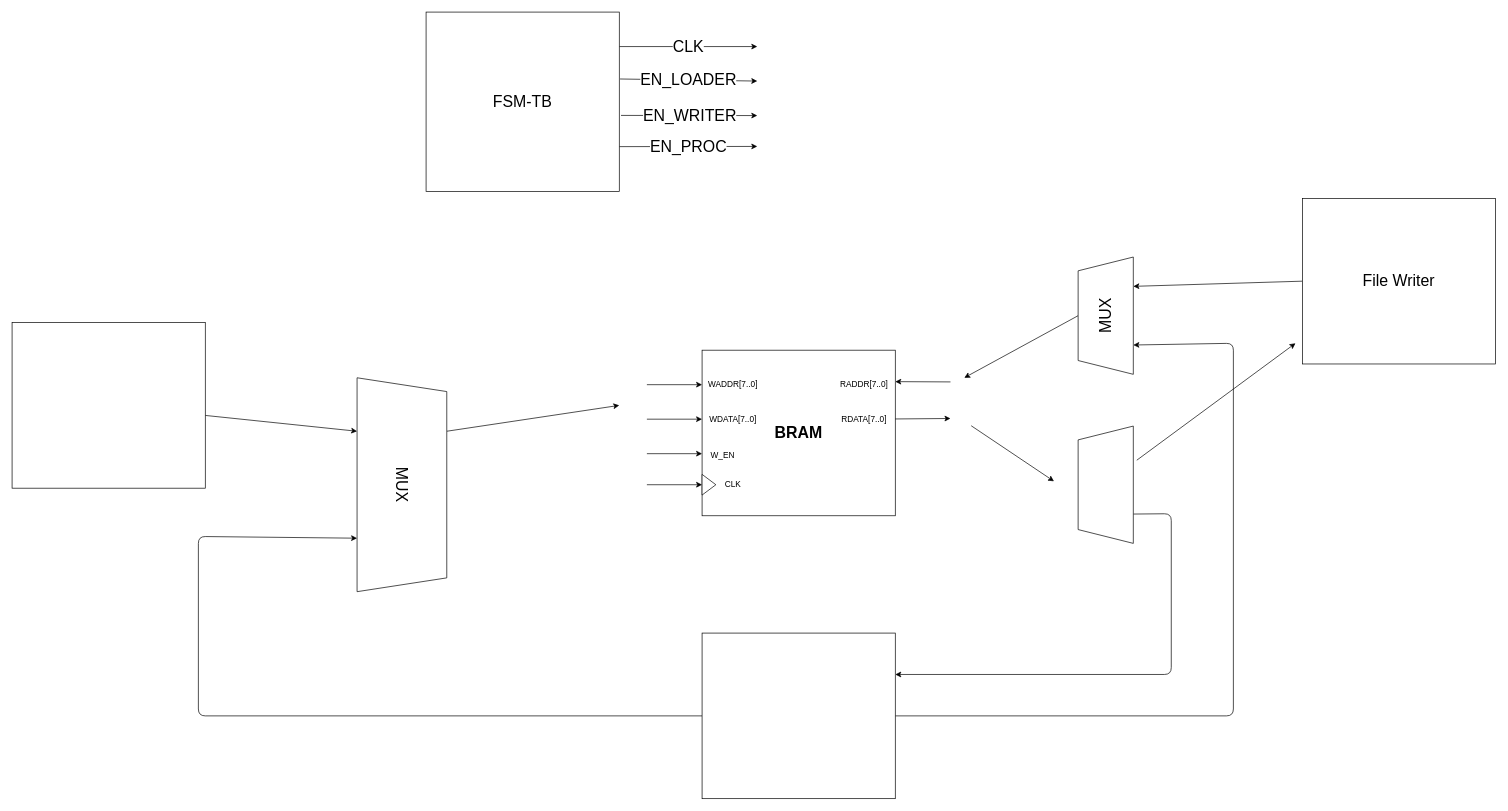
Some shapes in this 1508 by 811 pixel diagram are drawn without their labels. Each missing label, with the box of its shape:
DEMUX: (1077, 425, 1133, 543)
File Loader: (11, 322, 205, 488)
Process: (701, 632, 895, 799)
